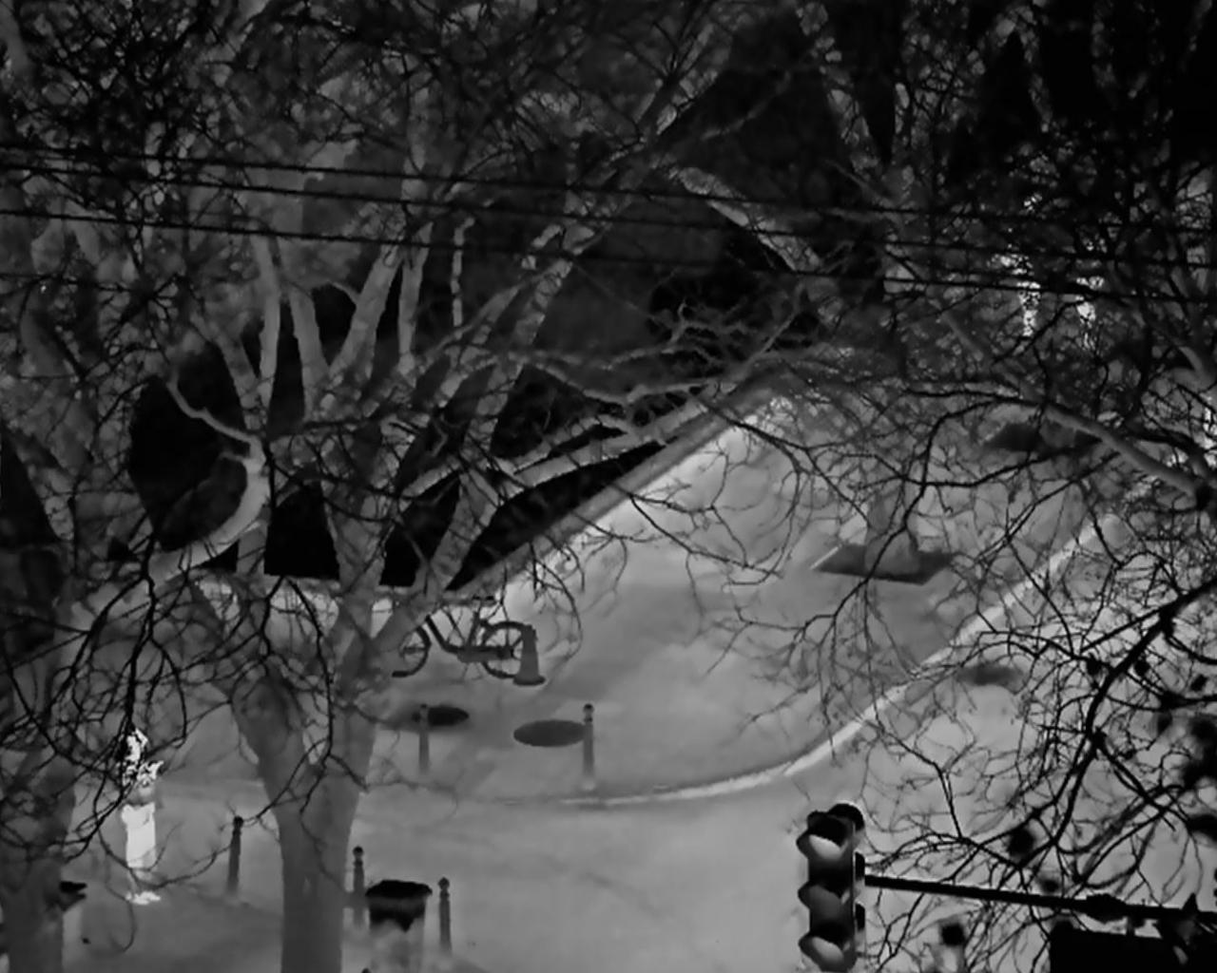person: (122, 727, 167, 907)
